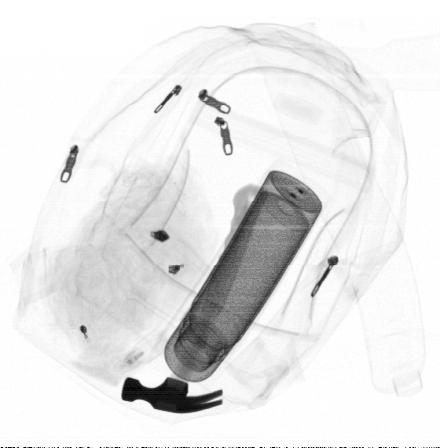Hammer: (121, 181, 271, 413)
